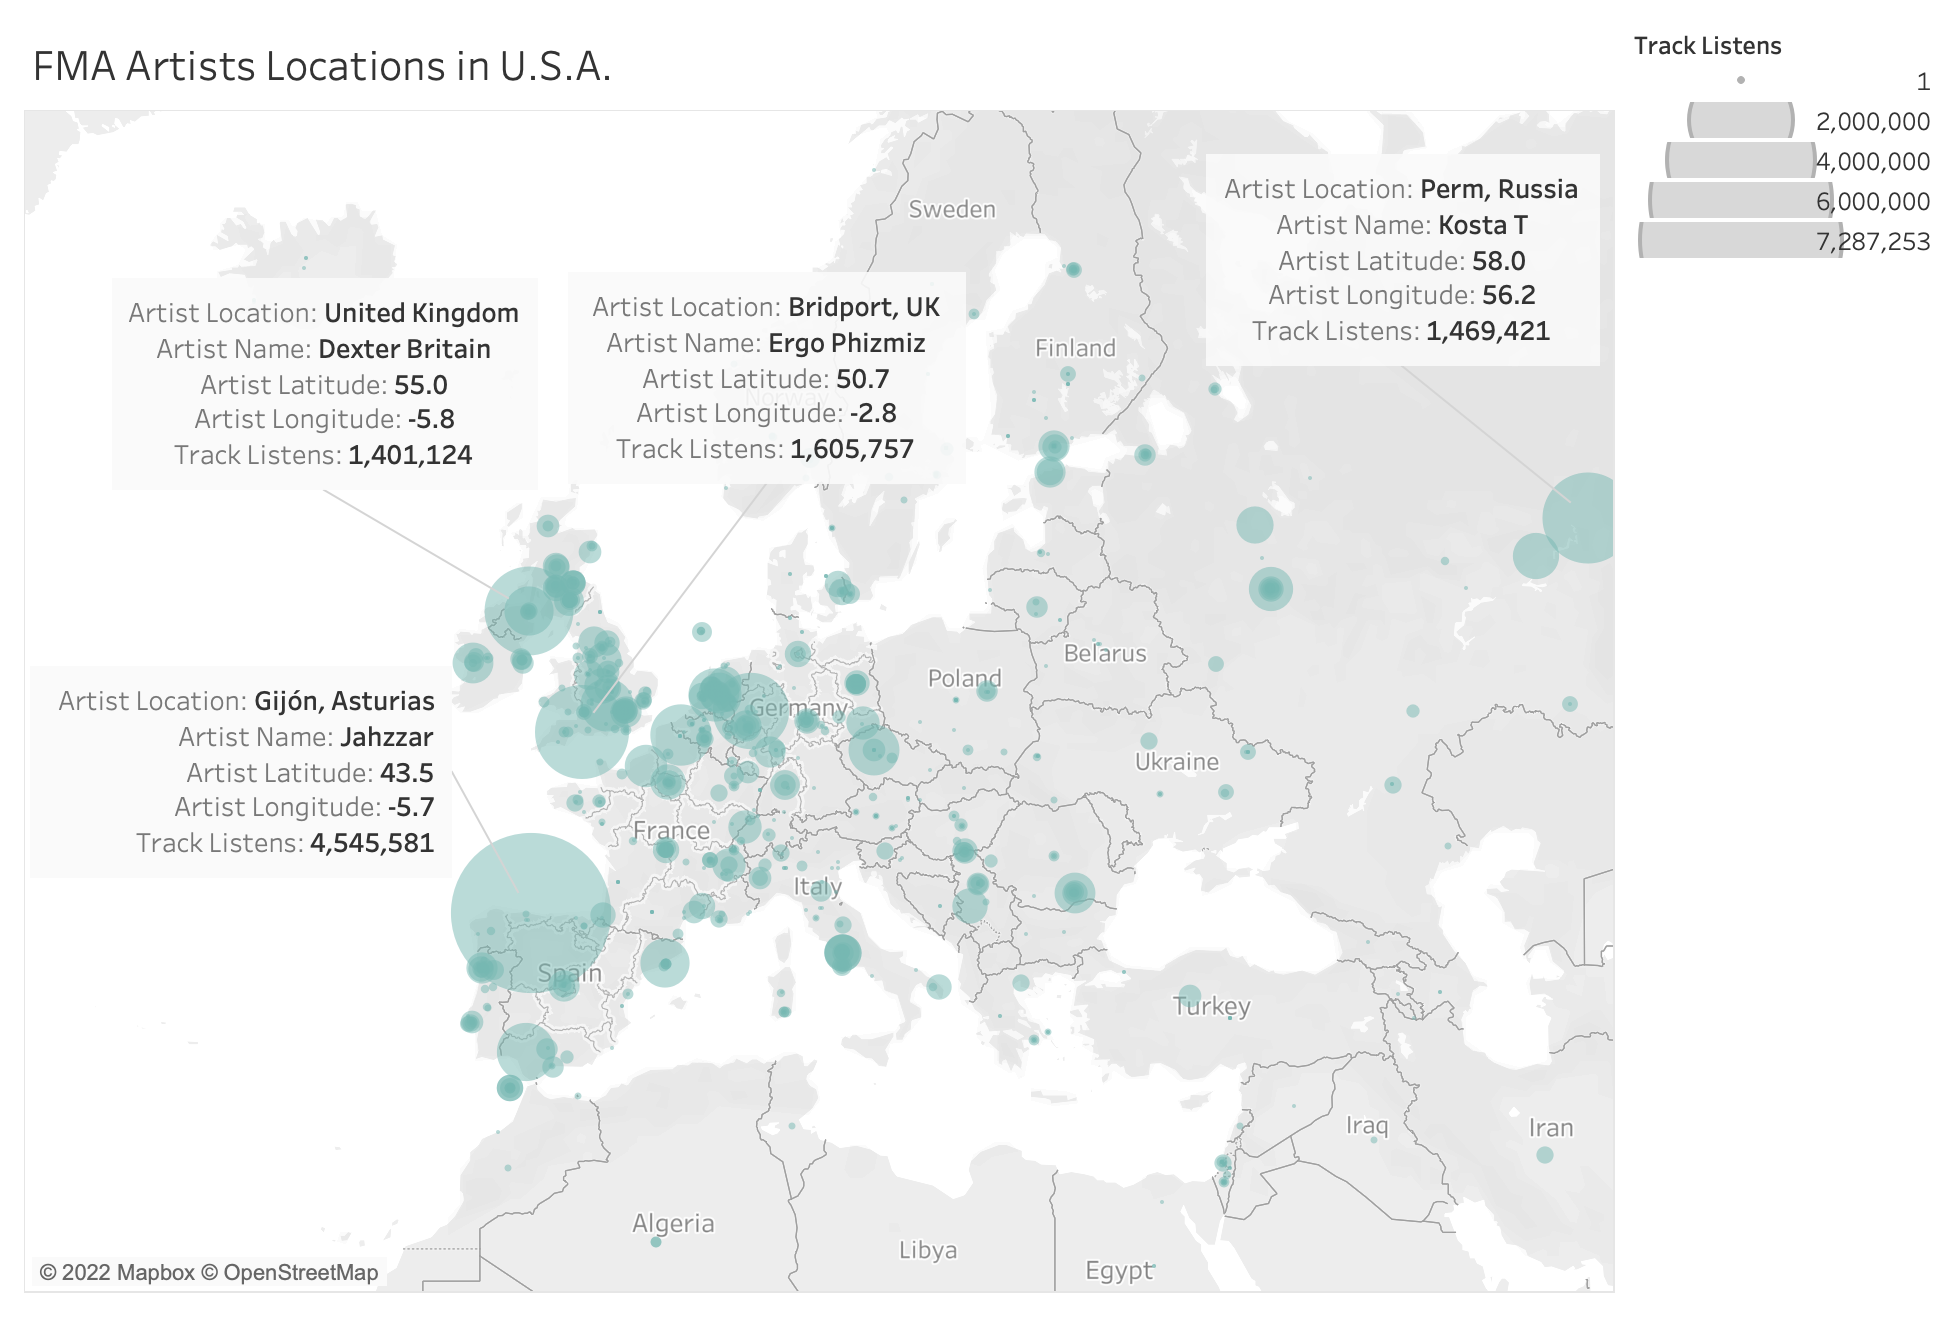

What the dashboard file says about the page in this screenshot:
{"tool":"tableau","page":{"name":"Dashboard 1 (2)","canvas":[1600,900],"ordinal":1},"visuals":[{"type":"worksheet","title":"Sheet 1","mark":"Automatic","box":[8,8,1584,884]}]}

Visuals, with their boxes on the page's 1600x900 design canvas (x1, y1, x2, y2). These are canvas units, not pixel positions in the 1960x1318 screenshot, which may show the page scaled, cropped or inside an application window:
"Sheet 1" worksheet: locate(8, 8, 1592, 892)
